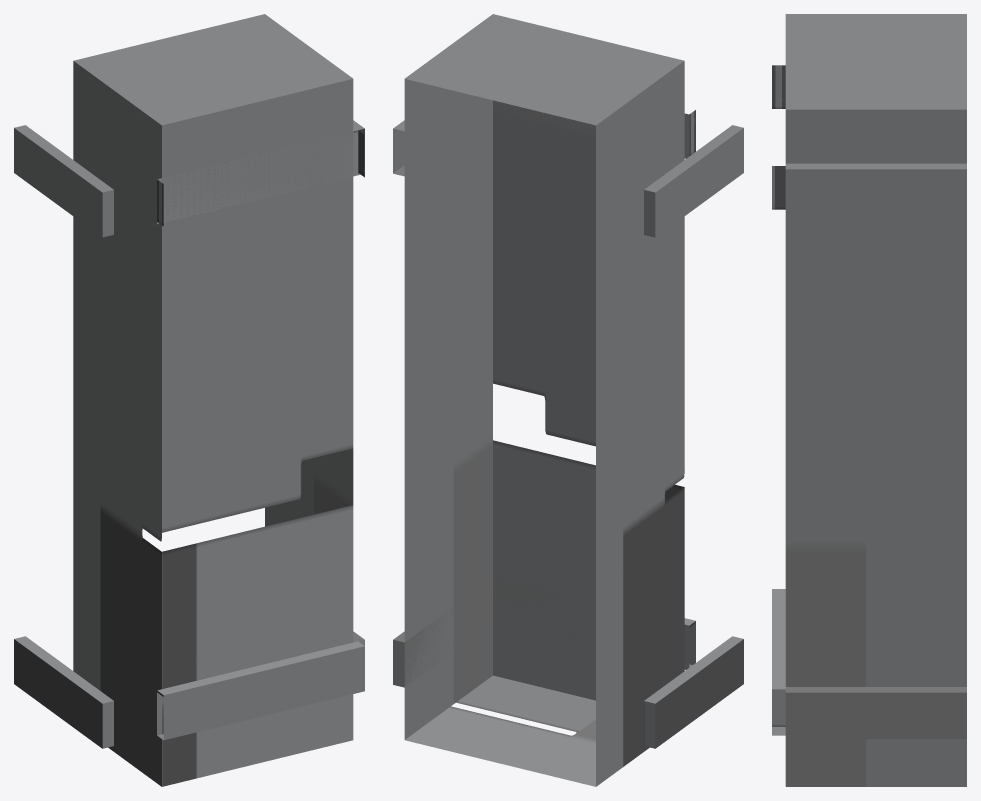
3 renders of one model, left to right at view 1: azimuth 30°, elevation 25°; view 2: azimuth 150°, elevation 25°; view 3: azimuth 270°, elevation 25°, orthographic. The views are drawn at different scales.
Bounding box in the file's own units: 0.2329 × 0.561 × 0.1462.
